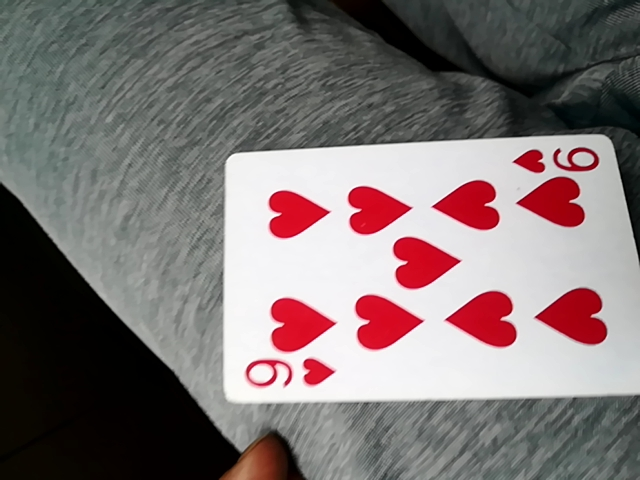hx 9: (227, 128, 634, 403)
